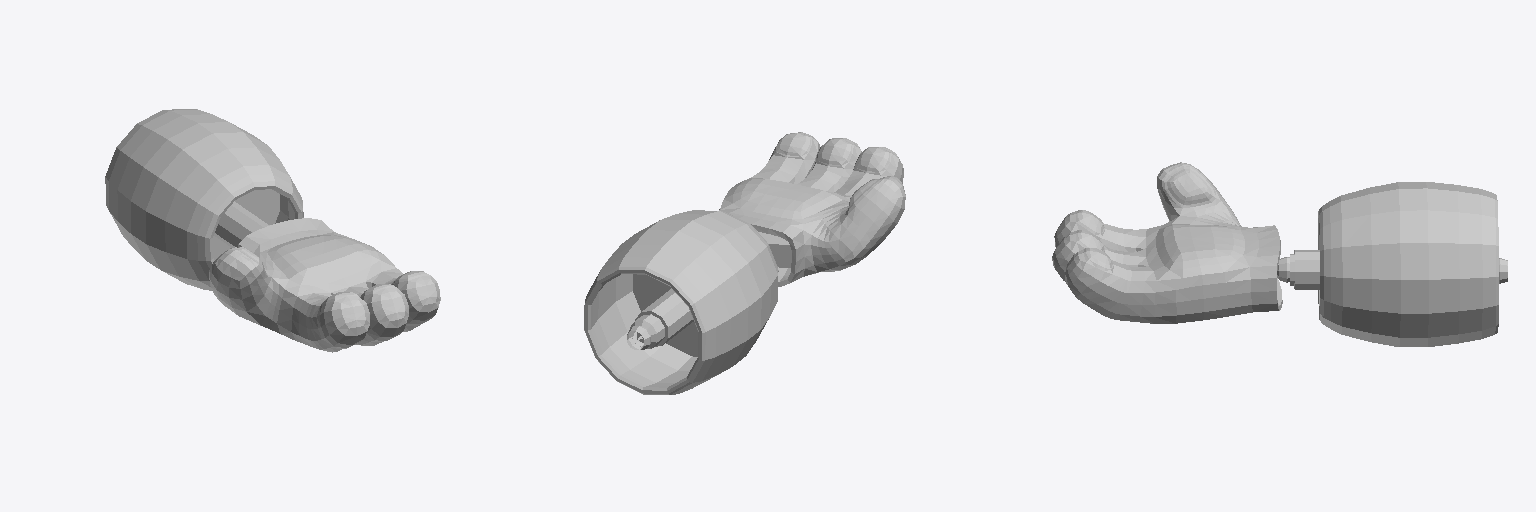
Rendered from chicabrazo.obj.
The picture shows the model from 3 angles: view 1: azimuth 30°, elevation 25°; view 2: azimuth 150°, elevation 25°; view 3: azimuth 270°, elevation 25°; orthographic projection.
Visible parts, largest first — view 1: Chica.001; view 2: Chica.001; view 3: Chica.001.
Part boxes in pixels (bbox=[...]): Chica.001: bbox=[105, 109, 440, 352]; Chica.001: bbox=[584, 132, 905, 394]; Chica.001: bbox=[1052, 162, 1507, 346].
Size of the model in its own units: 12.08 by 9.83 by 27.02.